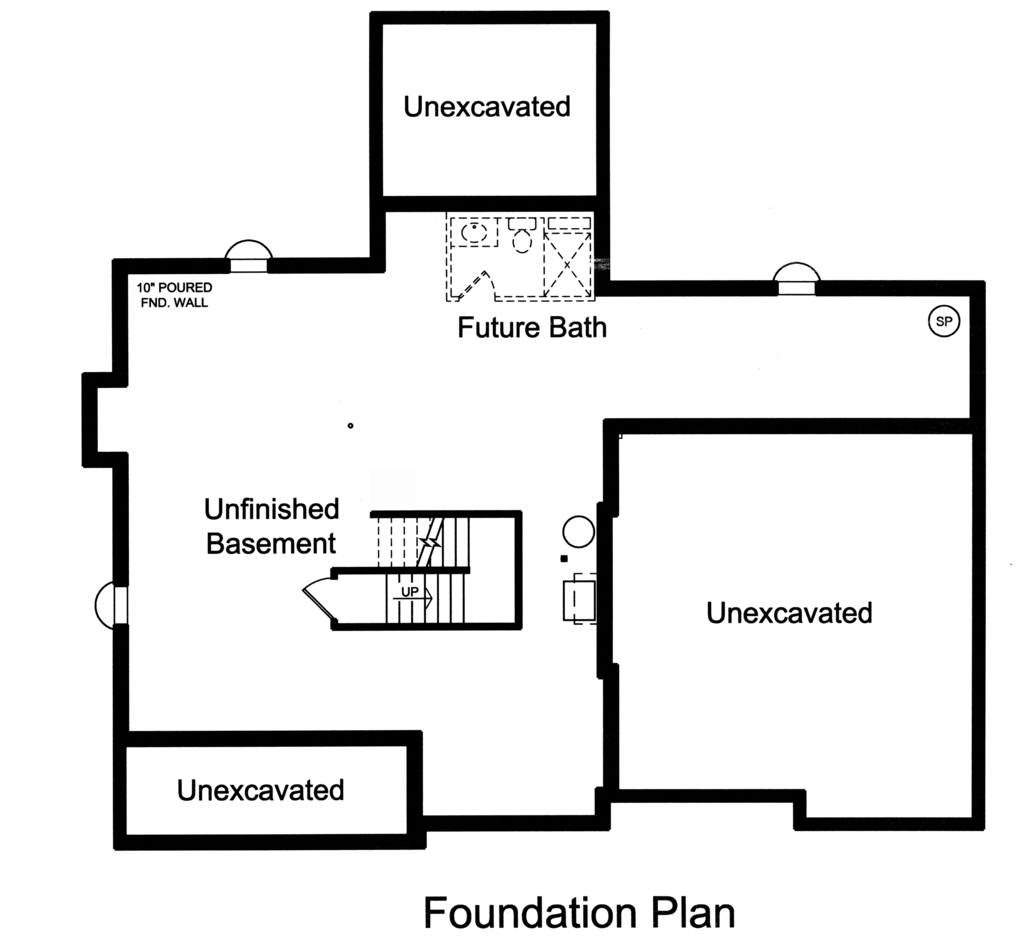stairs: (333, 512, 523, 633)
windows: (88, 579, 133, 631), (775, 263, 827, 297), (225, 244, 276, 275)
